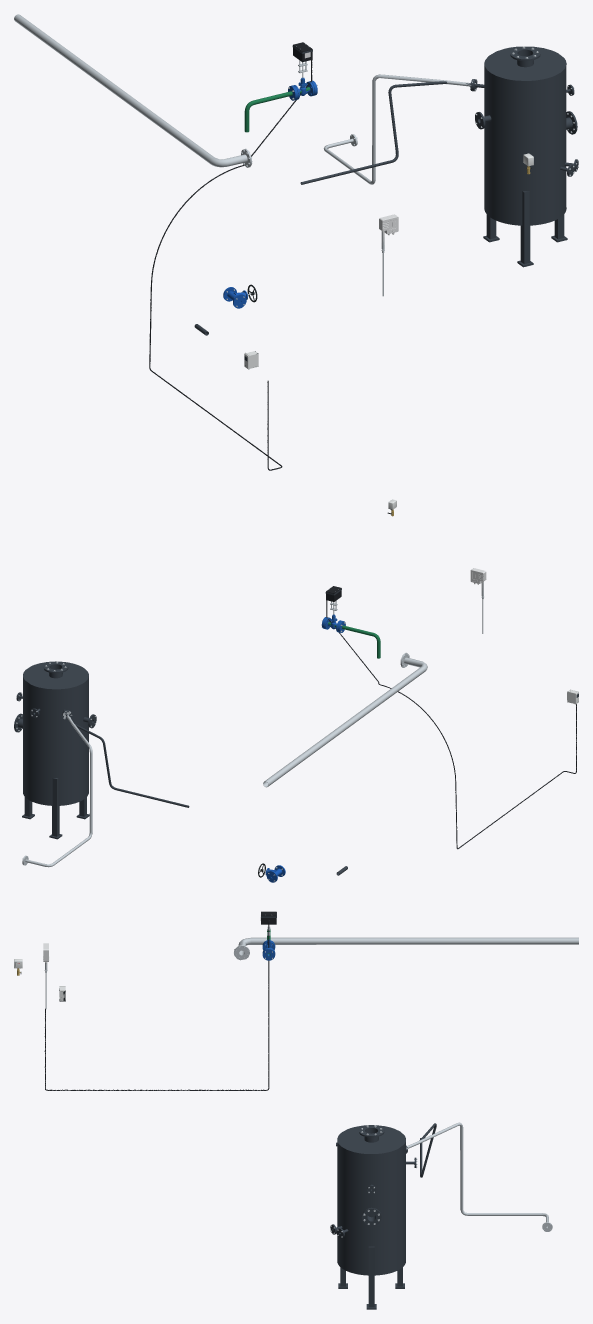
3 renders of one model, top to bottom at view 1: azimuth 30°, elevation 25°; view 2: azimuth 150°, elevation 25°; view 3: azimuth 270°, elevation 25°, orthographic. The views are drawn at different scales.
Visible parts, largest first — view 1: separator_bdv60_5 / dark, safety_vent_2 / steel, mod_direct_drive / black, trap_gap_to_bdv / steel, tds_without_fv / dark; view 2: separator_bdv60_5 / dark, safety_vent_2 / steel, mod_direct_drive / black, trap_gap_to_bdv / steel, tds_without_fv / dark; view 3: separator_bdv60_5 / dark, safety_vent_2 / steel, trap_gap_to_bdv / steel, mod_direct_drive / black.
Part boxes in pixels (box(x1,y1,x2,y2)): separator_bdv60_5 / dark: box(472, 46, 578, 267); safety_vent_2 / steel: box(14, 14, 252, 167); mod_direct_drive / black: box(149, 42, 312, 470); trap_gap_to_bdv / steel: box(323, 74, 474, 184); tds_without_fv / dark: box(300, 79, 473, 184); separator_bdv60_5 / dark: box(14, 661, 96, 839); safety_vent_2 / steel: box(263, 652, 427, 787); mod_direct_drive / black: box(326, 586, 576, 849); trap_gap_to_bdv / steel: box(22, 711, 92, 867); tds_without_fv / dark: box(62, 710, 189, 807); separator_bdv60_5 / dark: box(330, 1125, 416, 1309); safety_vent_2 / steel: box(234, 937, 578, 960); trap_gap_to_bdv / steel: box(406, 1122, 552, 1231); mod_direct_drive / black: box(44, 911, 276, 1090).
Size of the model in its own units: 5.49 by 3.24 by 6.27.
